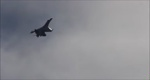maybay_muctieu: (32, 16, 54, 39)
